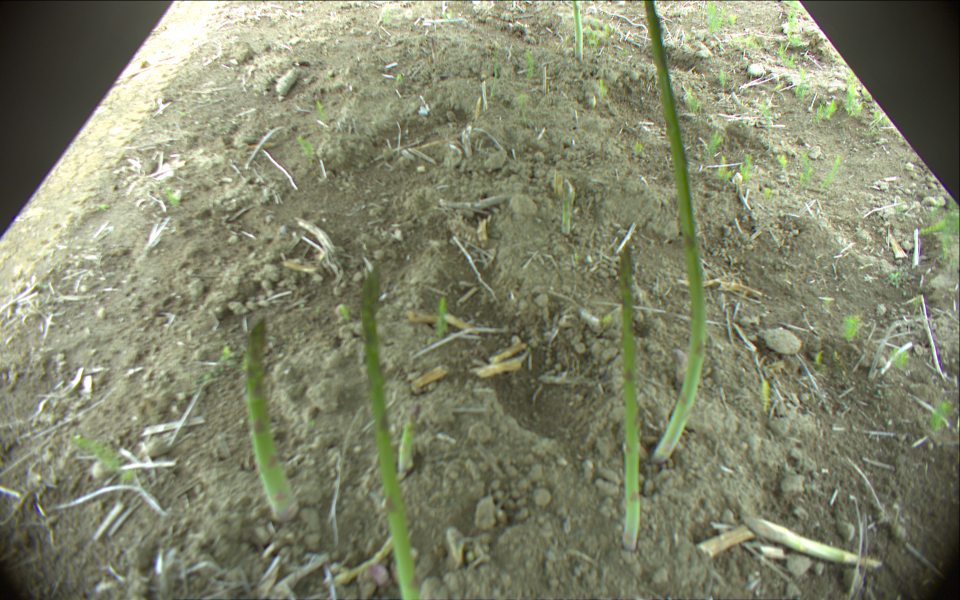aspa: (644, 1, 708, 461), (361, 268, 417, 600), (244, 318, 299, 522), (744, 514, 882, 569), (618, 244, 643, 547), (397, 403, 422, 477), (560, 180, 573, 236), (571, 1, 583, 59)
